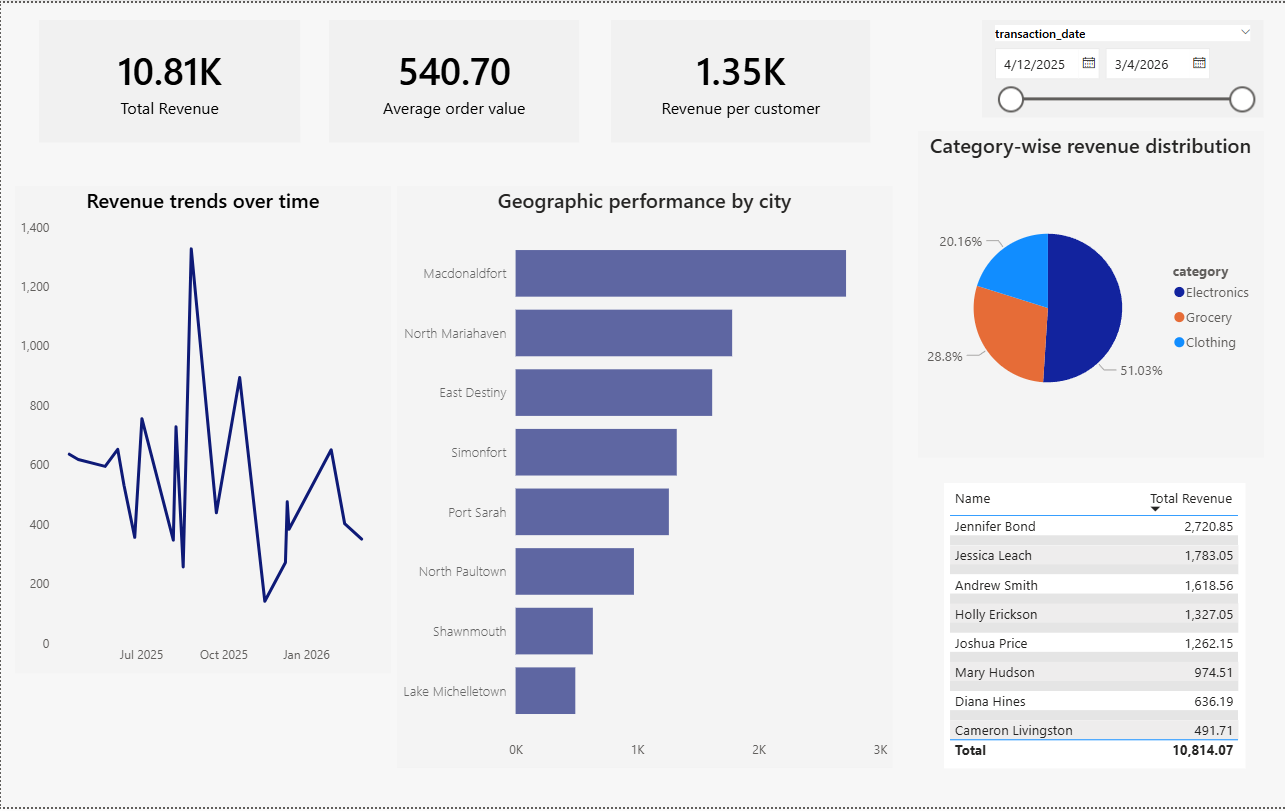

What the dashboard file says about the page in this screenshot:
{"tool":"powerbi","page":{"name":"Page 1","canvas":[1280,800],"ordinal":0},"visuals":[{"type":"card","fields":{"Values":["Sum(public transactions.total_amount)"]},"box":[38,16.7,260,121.6],"z":0},{"type":"lineChart","title":"Revenue trends over time","fields":{"Y":["Sum(public transactions.total_amount)"],"Category":["public transactions.transaction_date"]},"box":[13.7,182.4,374,484.9],"z":1},{"type":"slicer","fields":{"Values":["public transactions.transaction_date"]},"box":[976,16.7,279.7,97.3],"z":3},{"type":"card","fields":{"Values":["public customers.Avg_order_value"]},"box":[326.8,16.7,249.3,121.6],"z":4},{"type":"tableEx","fields":{"Values":["public customers.name","Sum(public transactions.total_amount)"]},"box":[938,477.3,317.7,294.9],"z":6},{"type":"clusteredBarChart","title":"Geographic performance by city","fields":{"Category":["public customers.city"],"Y":["Sum(public transactions.total_amount)"]},"box":[393.7,182.4,492.5,579.2],"z":7},{"type":"pieChart","title":"Category-wise revenue distribution","fields":{"Category":["public products.category"],"Y":["Sum(public transactions.total_amount)"]},"box":[912.1,127.7,343.6,325.3],"z":8},{"type":"card","fields":{"Values":["public customers.revenue_per_custoemr"]},"box":[606.6,16.7,258.4,121.6],"z":9}]}

Visuals, with their boxes in screenshot pixels (x1, y1, x2, y2), scaled from the page's 1280x800 canvas onto the 1285x811 screenshot:
card - Sum(public transactions.total_amount): BBox(38, 17, 299, 140)
"Revenue trends over time" lineChart: BBox(14, 185, 389, 676)
slicer - public transactions.transaction_date: BBox(980, 17, 1261, 116)
card - public customers.Avg_order_value: BBox(328, 17, 578, 140)
tableEx - public customers.name x Sum(public transactions.total_amount): BBox(942, 484, 1261, 783)
"Geographic performance by city" clusteredBarChart: BBox(395, 185, 890, 772)
"Category-wise revenue distribution" pieChart: BBox(916, 129, 1261, 459)
card - public customers.revenue_per_custoemr: BBox(609, 17, 868, 140)
